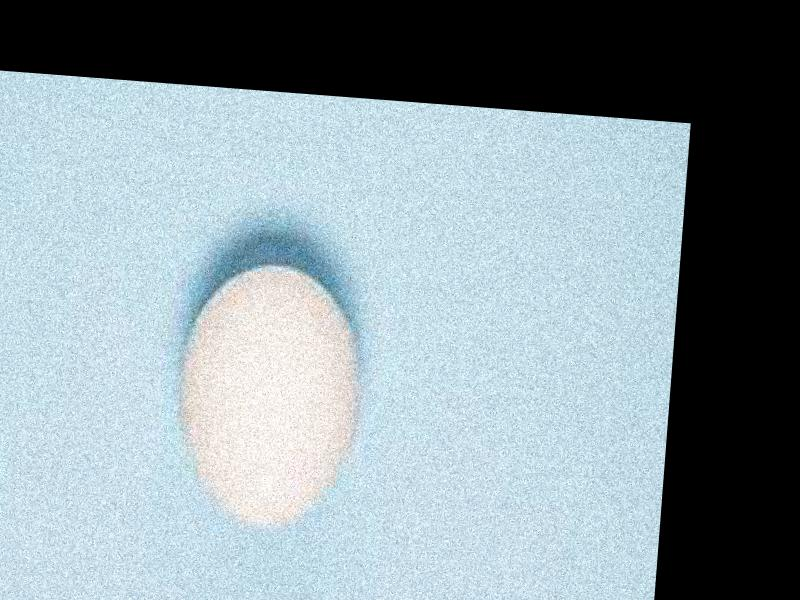Eggs: (172, 259, 369, 537)
